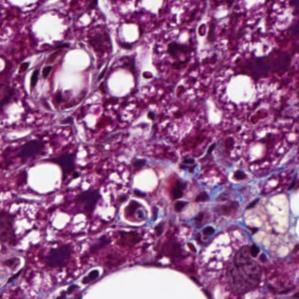inflammation: (66, 180, 110, 219), (35, 234, 88, 266)
